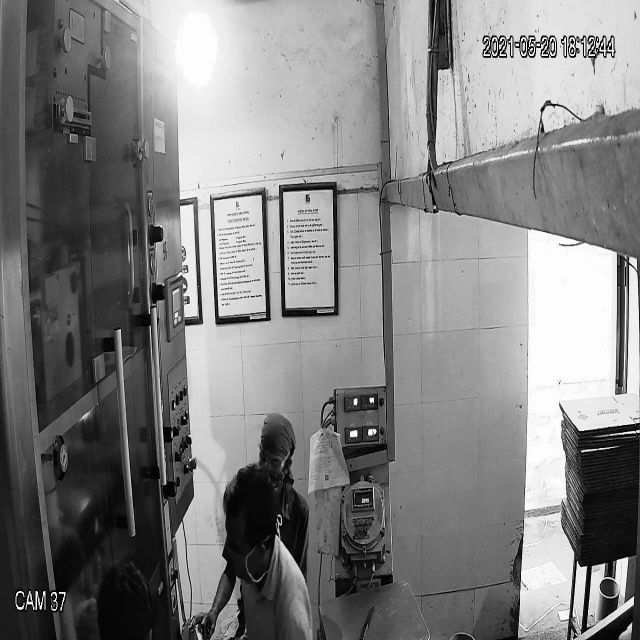Gafas: (256, 447, 291, 473)
